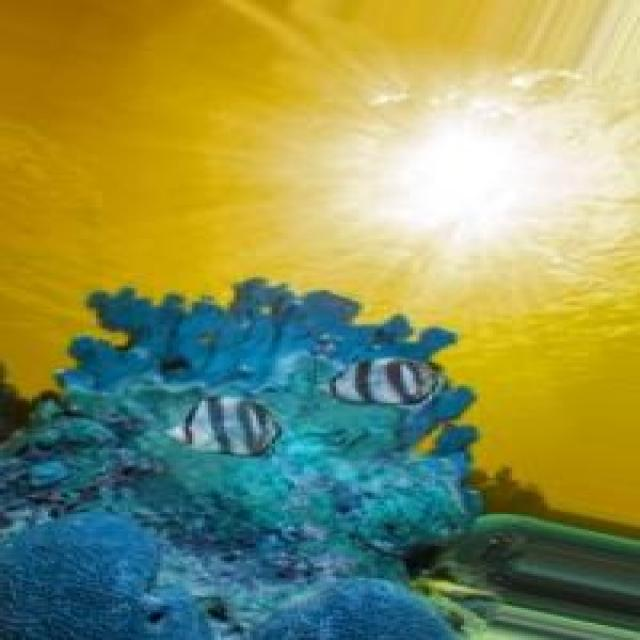Healthy: (1, 278, 491, 640)
